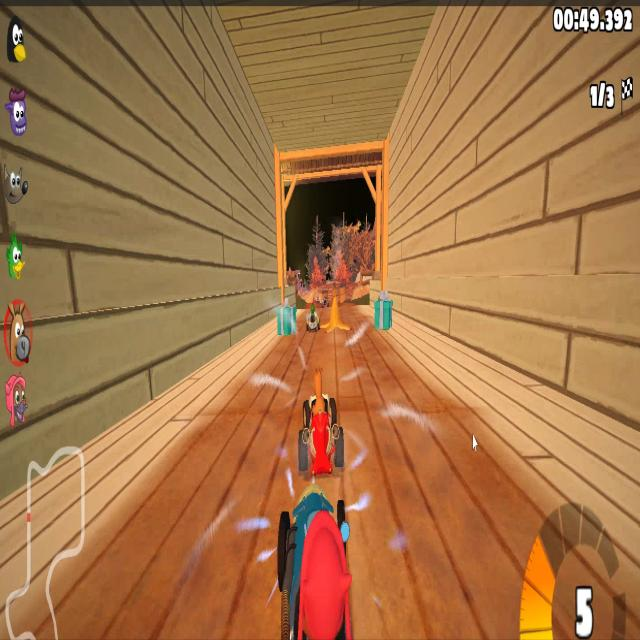player_kart: (274, 492, 355, 640)
